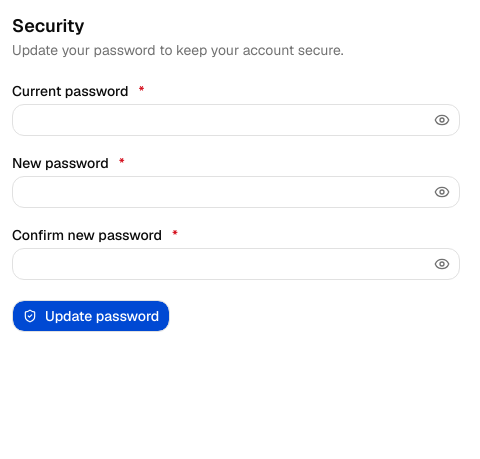
Test: SecuritySettingsPage › shows strength meter when new password is typed
The image size is (480, 459).
Type "abc" into the password field labelled "New password".
click(236, 192); type("abc")  # box [12,176,460,208]
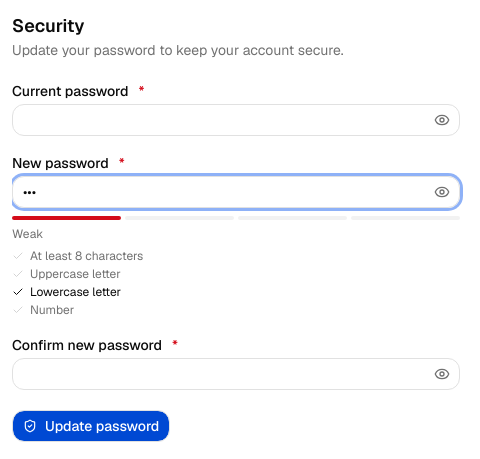
expect the list named "password requirements" is shown: met, box [12,248,143,318]
expect the list item "At least 8 characters" is shown: met, box [12,248,143,264]
